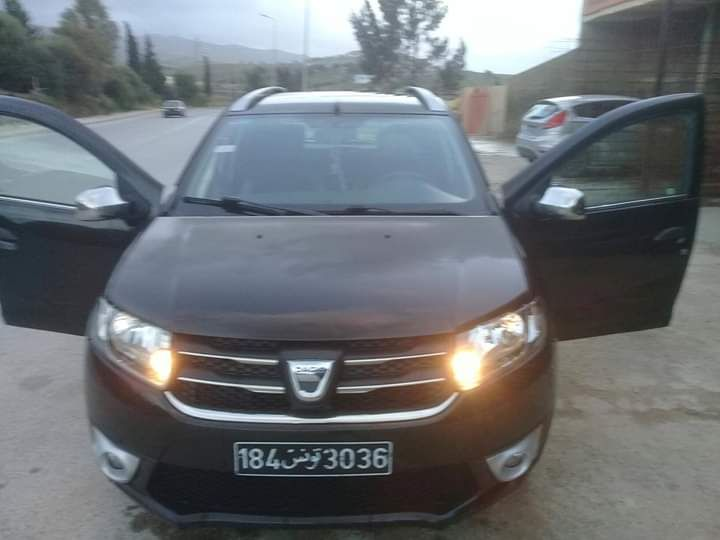LP: (233, 440, 394, 477)
